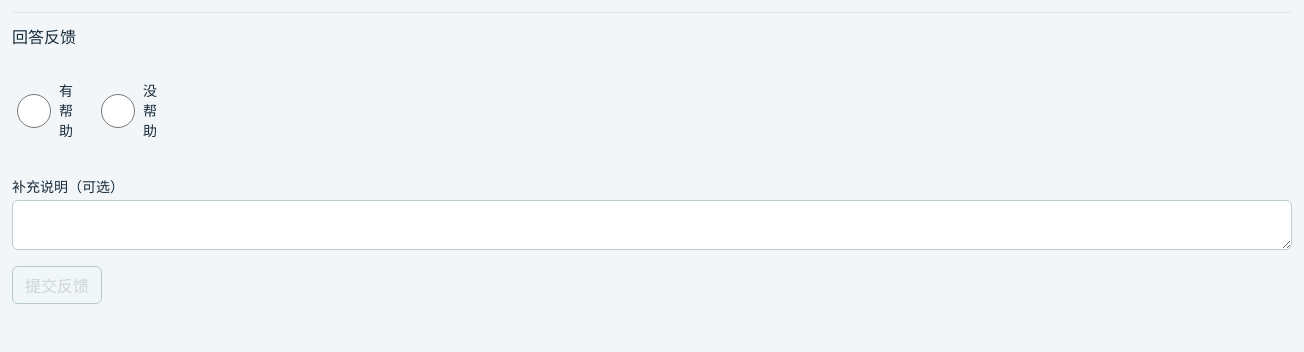
Test: submits only once and keeps a failed request visible
Click the radio button labelled "没帮助" at [118, 111], box [101,89,135,133]
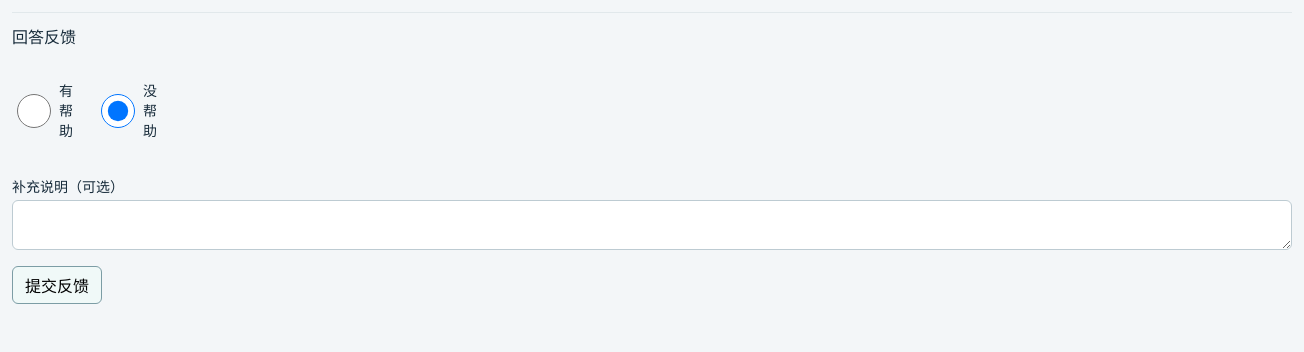
Type "有误" into the text box labelled "补充说明（可选）" at [652, 225], box [12,200,1292,250]
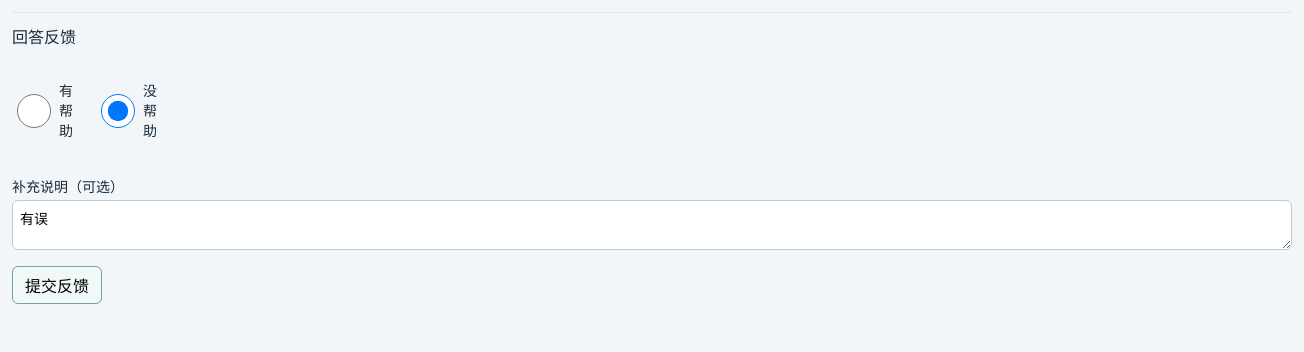
Click the button with aria-label "提交反馈" at [57, 285], box [12,266,102,304]
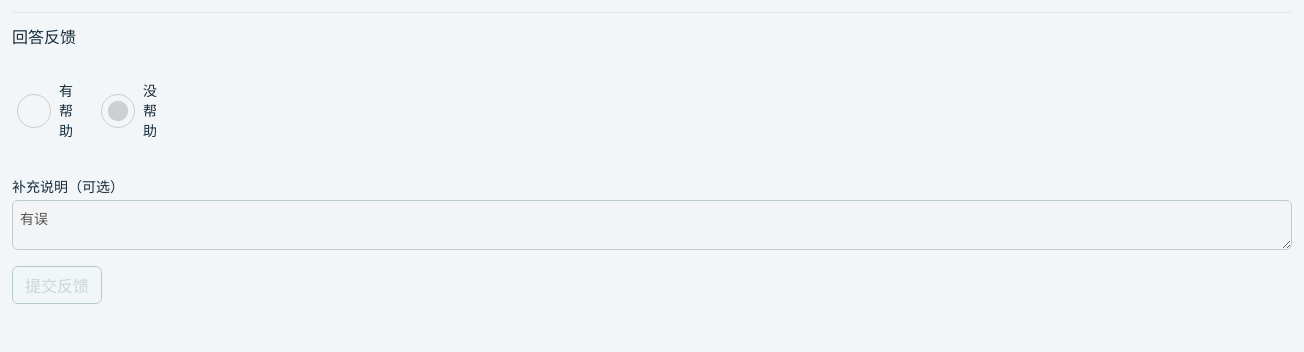
Click the button with aria-label "提交反馈" at [57, 285], box [12,266,102,304]
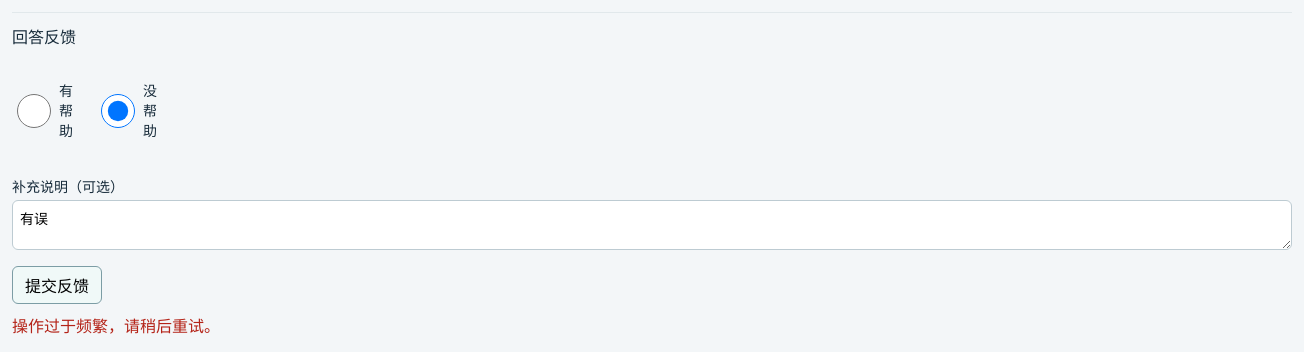
Expected: the text "操作过于频繁" is shown, [12,316,220,336]
